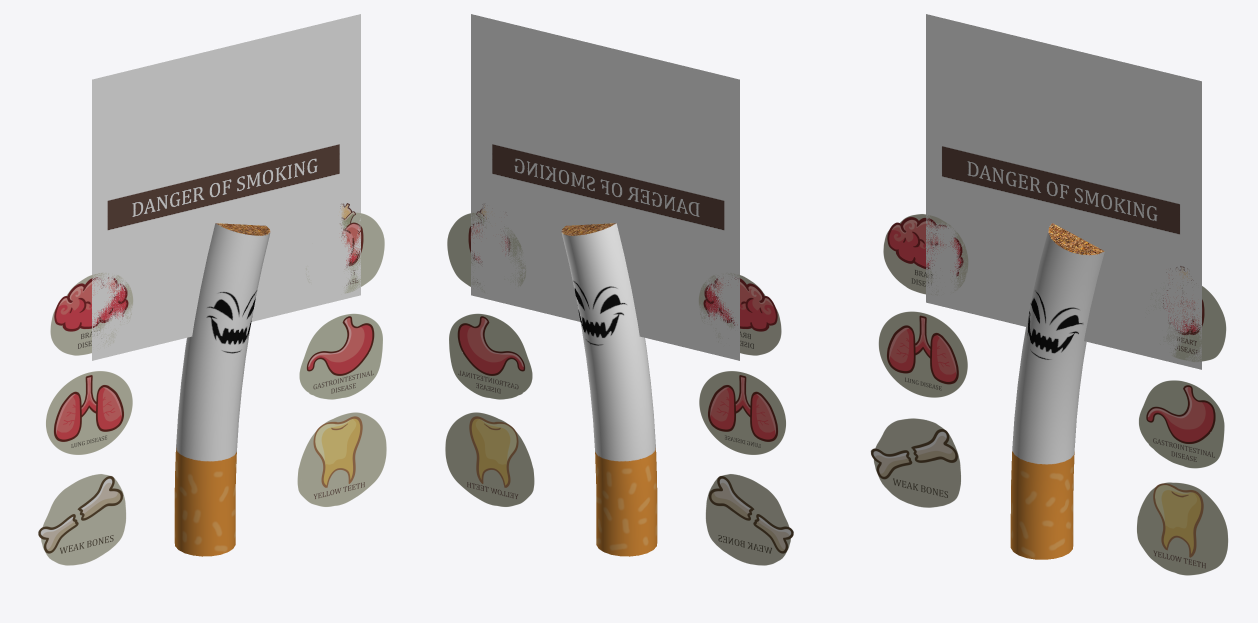
The model's file is danger_of_smoking_1.glb.
3 views of the same model, side by side, from view 1: azimuth 30°, elevation 25°; view 2: azimuth 150°, elevation 25°; view 3: azimuth 330°, elevation 25° (orthographic). The views are drawn at different scales.
Visible parts, largest first — view 1: Object_8, Object_9, Object_6, Object_4, Object_5, Object_3, Object_7, Object_2; view 2: Object_8, Object_9, Object_6, Object_4, Object_5, Object_3, Object_7, Object_2; view 3: Object_8, Object_9, Object_6, Object_4, Object_5, Object_3, Object_7, Object_2.
Part boxes in pixels (x1,y1,x2,y2): Object_8: (92,14,360,360); Object_9: (174,223,270,556); Object_6: (297,412,386,506); Object_4: (38,474,126,565); Object_5: (46,371,132,454); Object_3: (299,313,382,399); Object_7: (50,272,133,355); Object_2: (305,203,384,294); Object_8: (471,14,739,360); Object_9: (561,223,657,556); Object_6: (445,412,534,506); Object_4: (705,474,793,565); Object_5: (699,371,785,454); Object_3: (449,313,532,399); Object_7: (698,273,781,355); Object_2: (447,204,526,292); Object_8: (926,14,1201,369); Object_9: (1010,223,1104,559); Object_6: (1137,482,1228,575); Object_4: (870,418,960,507); Object_5: (878,311,967,397); Object_3: (1139,380,1224,468); Object_7: (883,214,968,295); Object_2: (1148,266,1226,361).
Bounding box in the file's own units: 14.61 × 18.37 × 2.
Materials: 8 (8 with a texture image).
